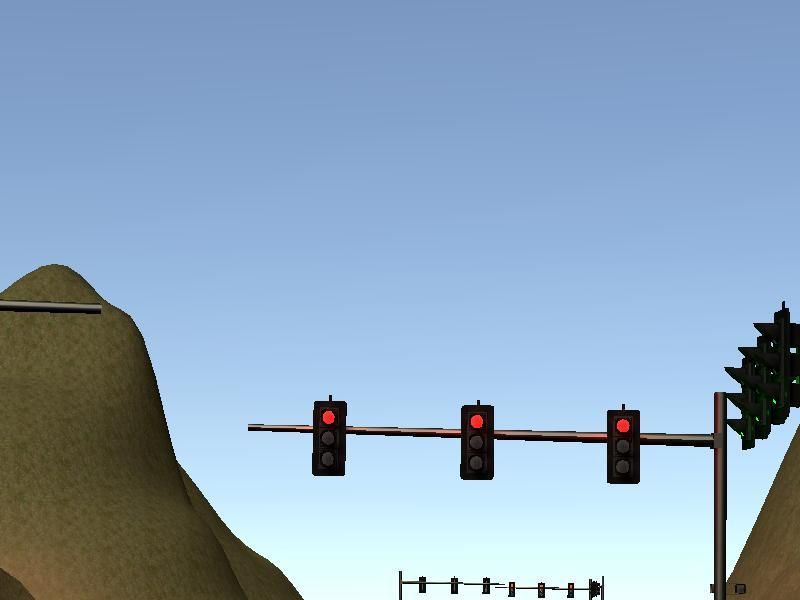Red: (460, 404, 494, 480), (312, 400, 345, 475), (607, 410, 640, 483)
